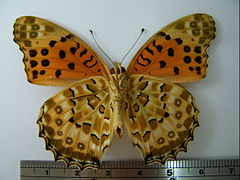Argyreus hyperbius: (7, 8, 217, 170)
butterfly: (9, 10, 219, 172)
